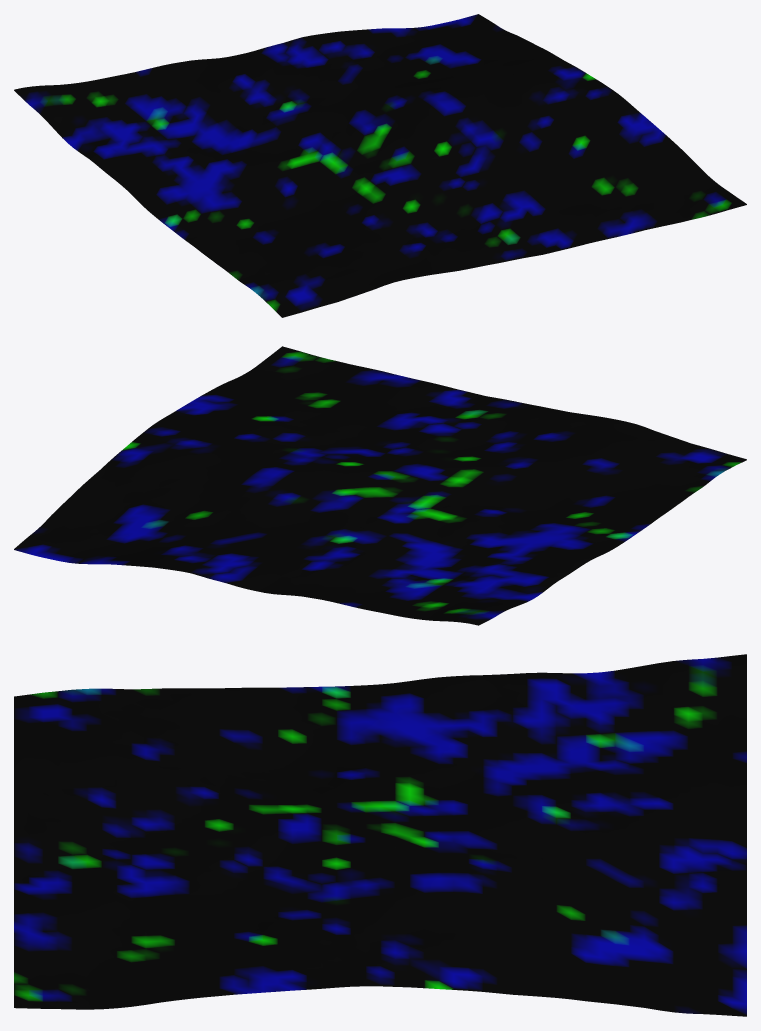
Rendered from coast_-1600_-2400_800.glb.
3 renders of one model, top to bottom at view 1: azimuth 30°, elevation 25°; view 2: azimuth 150°, elevation 25°; view 3: azimuth 270°, elevation 25°, orthographic. The views are drawn at different scales.
Parts seen in each view (by area): view 1: terrain; view 2: terrain; view 3: terrain.
Part boxes in pixels (x1,y1,x2,y2): terrain: (14,14,746,317); terrain: (14,346,746,625); terrain: (14,654,746,1016).
Bounding box in the file's own units: 800 × 64.62 × 800.
